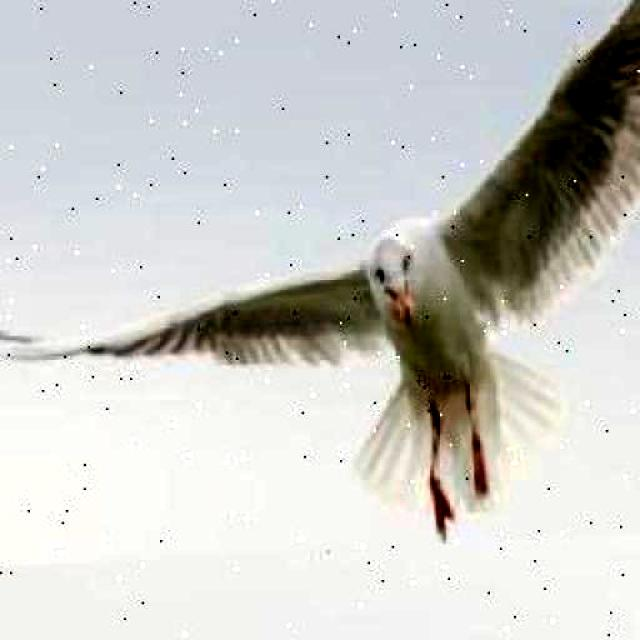airplane: (0, 0, 640, 569)
